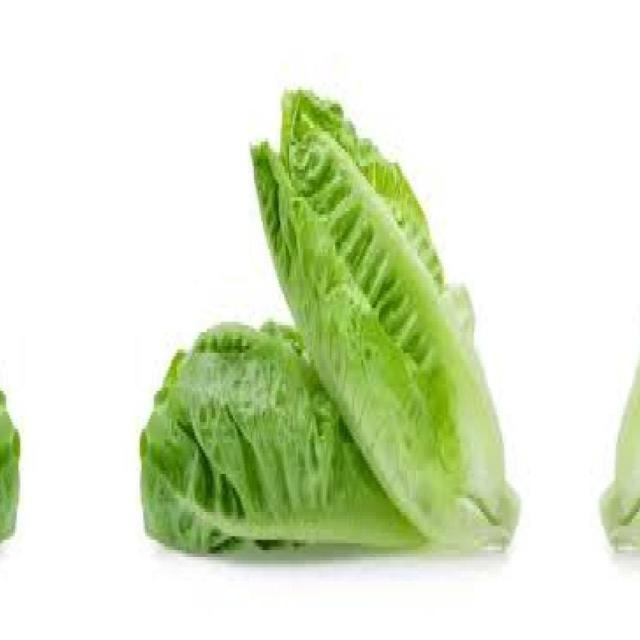healthy: (249, 62, 536, 572), (122, 308, 436, 568), (583, 62, 640, 572), (0, 308, 37, 568)
